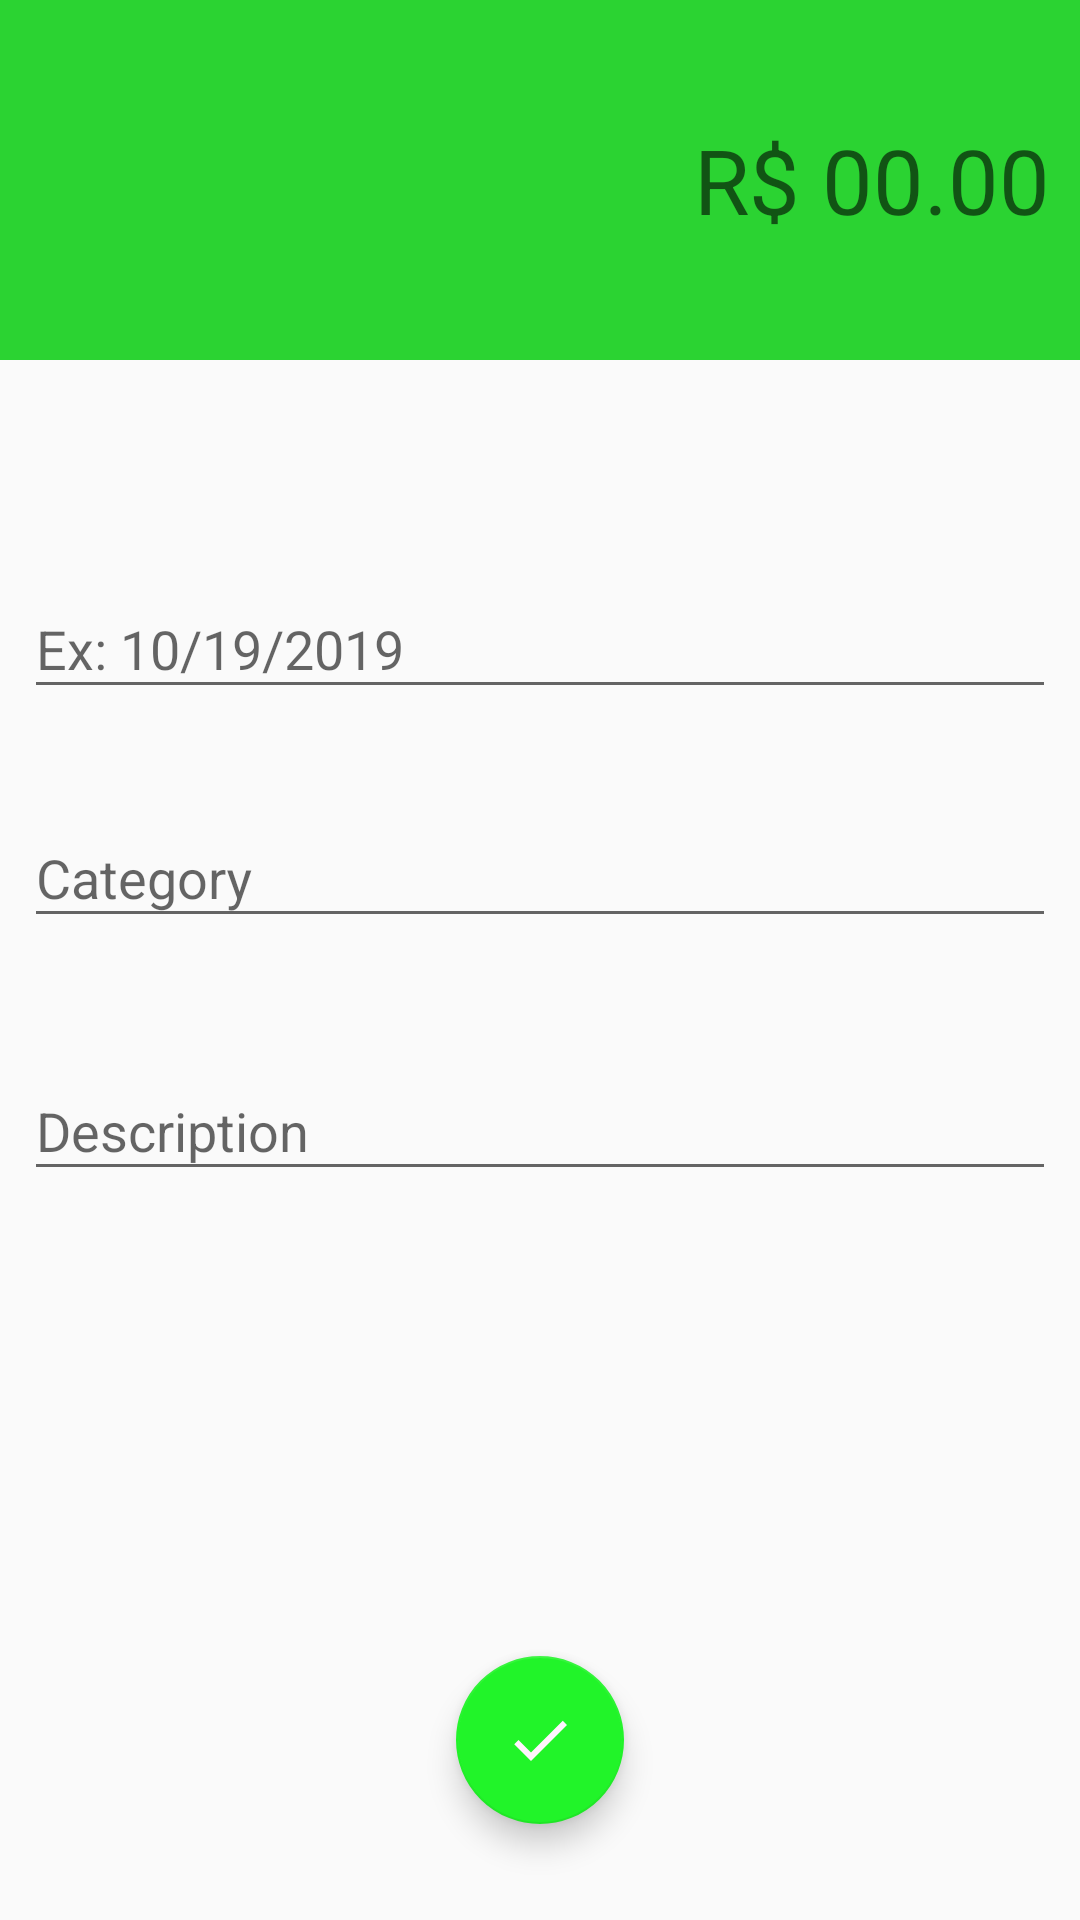

Screen size 1080px x 1920px. Icon name, then its box in pixels as (x1, y1, x2, y2):
check: (456, 1656, 624, 1824)
